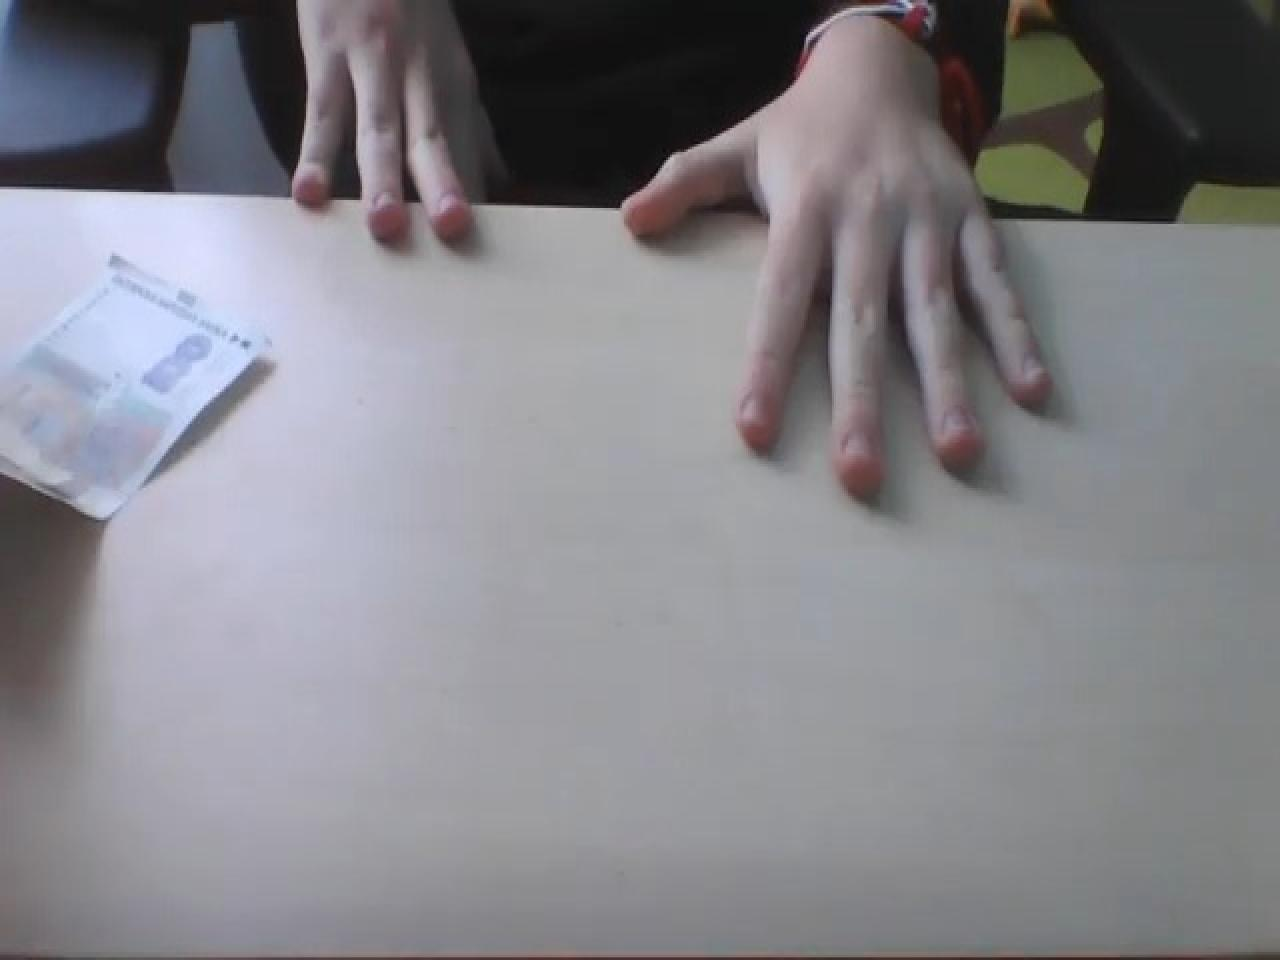100leva: (2, 178, 1276, 952), (0, 248, 270, 522)
